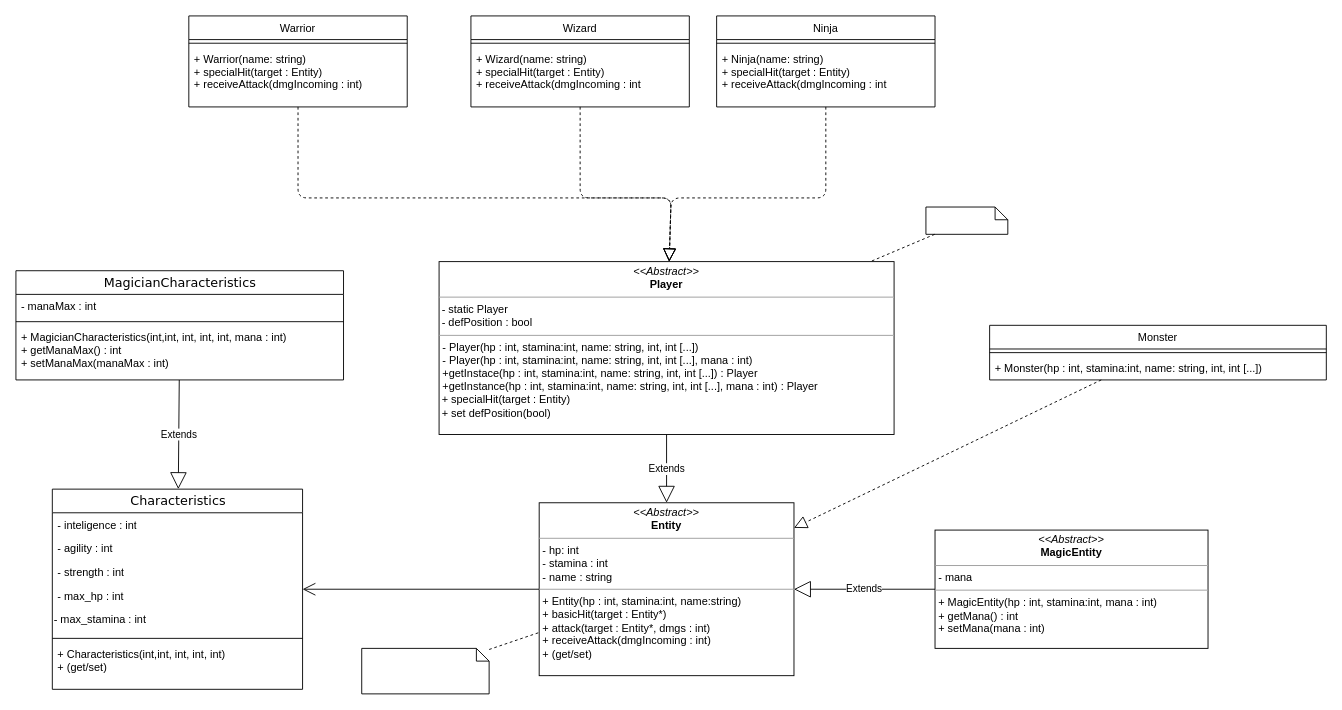
The diagram is 1342 pixels wide and 710 high, and some of its shapes have lost their labels. The centre of each missing label's shape, as x and y in pixels:
"BasicHit call attack with dmgs = strenght" goes at pixel 425 670.
"Singleton !" goes at pixel 966 220.
